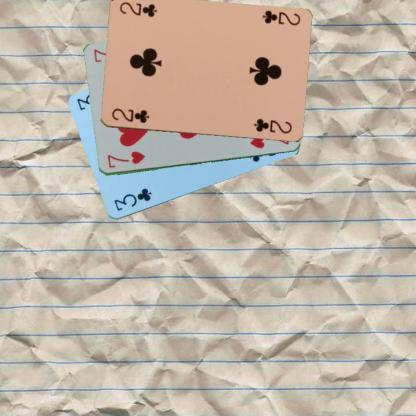2c: (259, 8, 301, 27), (109, 106, 150, 125)
3c: (111, 186, 153, 212)
7h: (104, 148, 146, 170)
